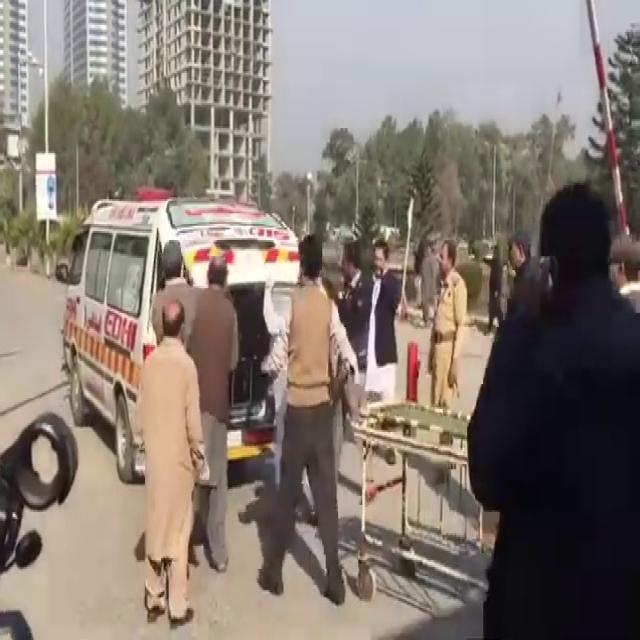ambulance: (49, 170, 298, 464)
